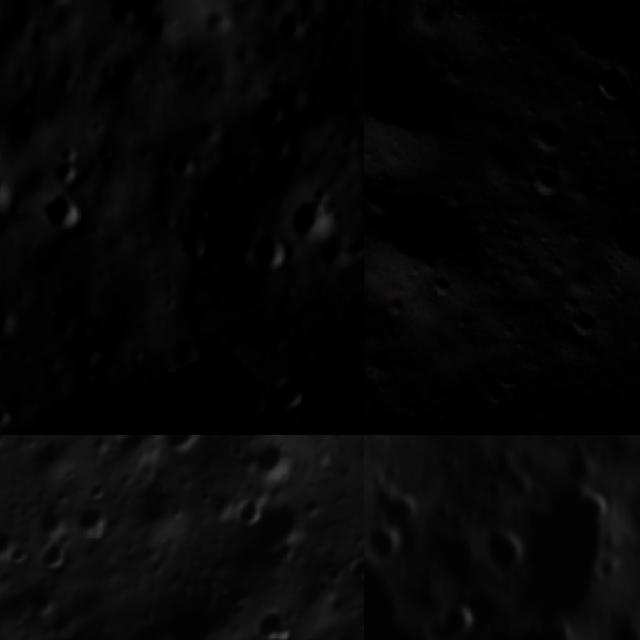crater: (364, 160, 499, 311), (364, 34, 469, 165), (539, 0, 640, 78), (238, 486, 319, 576), (579, 192, 640, 289), (576, 46, 640, 119), (64, 487, 126, 552), (514, 100, 576, 162), (237, 435, 300, 494), (29, 492, 85, 551), (558, 294, 614, 351), (284, 186, 336, 246), (223, 486, 274, 543), (223, 373, 274, 429), (517, 156, 569, 210), (236, 599, 300, 640), (479, 524, 530, 573), (38, 189, 88, 238), (270, 370, 318, 421), (364, 522, 414, 567), (63, 333, 109, 381), (563, 481, 612, 526), (152, 435, 218, 468), (31, 533, 76, 579), (430, 597, 477, 640), (248, 227, 290, 273), (245, 92, 293, 132), (46, 150, 89, 192), (276, 6, 316, 48), (80, 471, 117, 509), (0, 514, 24, 571), (5, 539, 38, 575), (340, 545, 364, 593), (0, 167, 17, 225), (0, 435, 16, 462)
